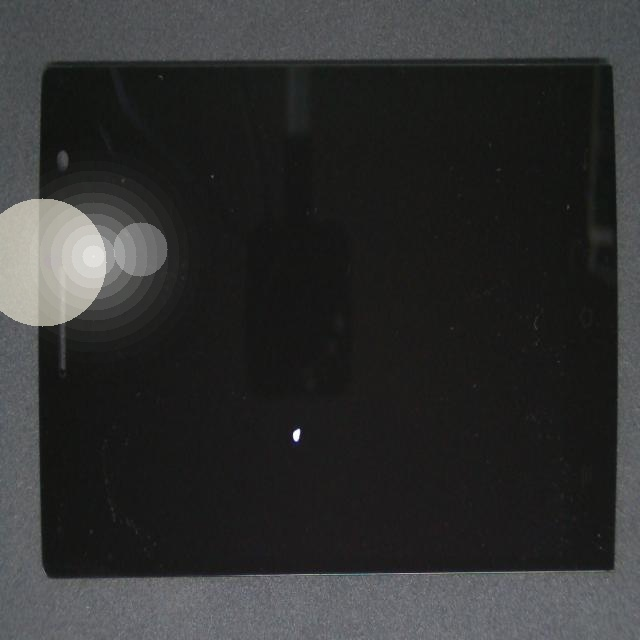stain: (153, 167, 436, 640)
